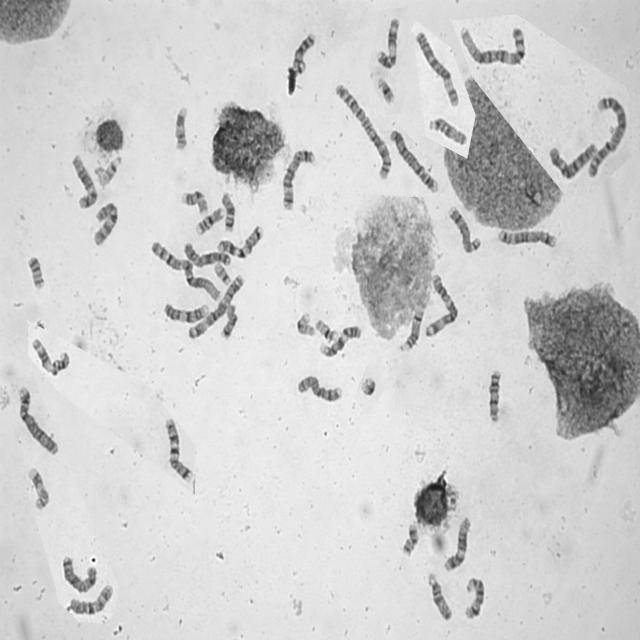A1: (148, 239, 222, 302), (459, 26, 528, 66)
A2: (334, 84, 392, 180), (587, 98, 628, 180)
A3: (188, 274, 245, 339), (425, 274, 458, 340)
B4: (389, 128, 439, 195), (17, 386, 61, 455)
B5: (284, 149, 316, 212), (496, 229, 558, 249)
C10: (67, 583, 113, 615), (93, 202, 119, 245)
C11: (32, 338, 70, 376), (377, 16, 400, 69)
C12: (444, 516, 472, 573), (71, 152, 98, 209)
C6: (415, 29, 459, 107), (547, 143, 600, 180)
C7: (164, 419, 194, 484), (216, 226, 264, 260)
C8: (448, 204, 481, 254), (296, 373, 343, 403)
C9: (318, 326, 362, 358), (161, 304, 210, 322)
D13: (290, 34, 318, 74), (487, 370, 503, 422)
D14: (398, 306, 423, 355), (464, 577, 487, 621)
D15: (426, 573, 454, 621), (428, 117, 468, 147)
E16: (194, 207, 226, 237), (181, 190, 211, 218)
E17: (26, 465, 49, 510), (175, 104, 188, 151)
E18: (221, 189, 236, 233), (220, 304, 238, 338)
F19: (316, 318, 340, 342), (296, 311, 316, 337)
F20: (26, 254, 46, 292), (401, 525, 420, 559)
G21: (378, 78, 396, 104), (360, 375, 376, 398)
G22: (97, 155, 123, 188), (212, 261, 232, 287)
X: (62, 555, 98, 593), (184, 242, 232, 267)
